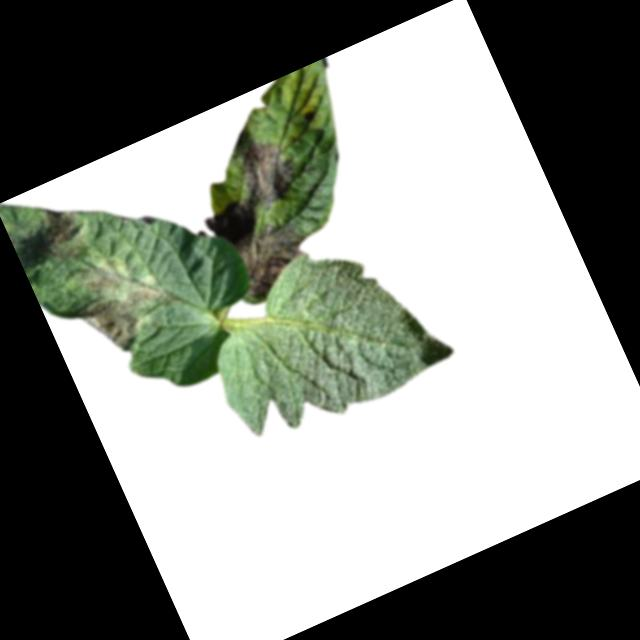Late_blight: (182, 128, 314, 249), (77, 278, 177, 362), (228, 215, 313, 298), (33, 194, 91, 258), (74, 252, 136, 308)
healthy: (184, 213, 460, 456)
